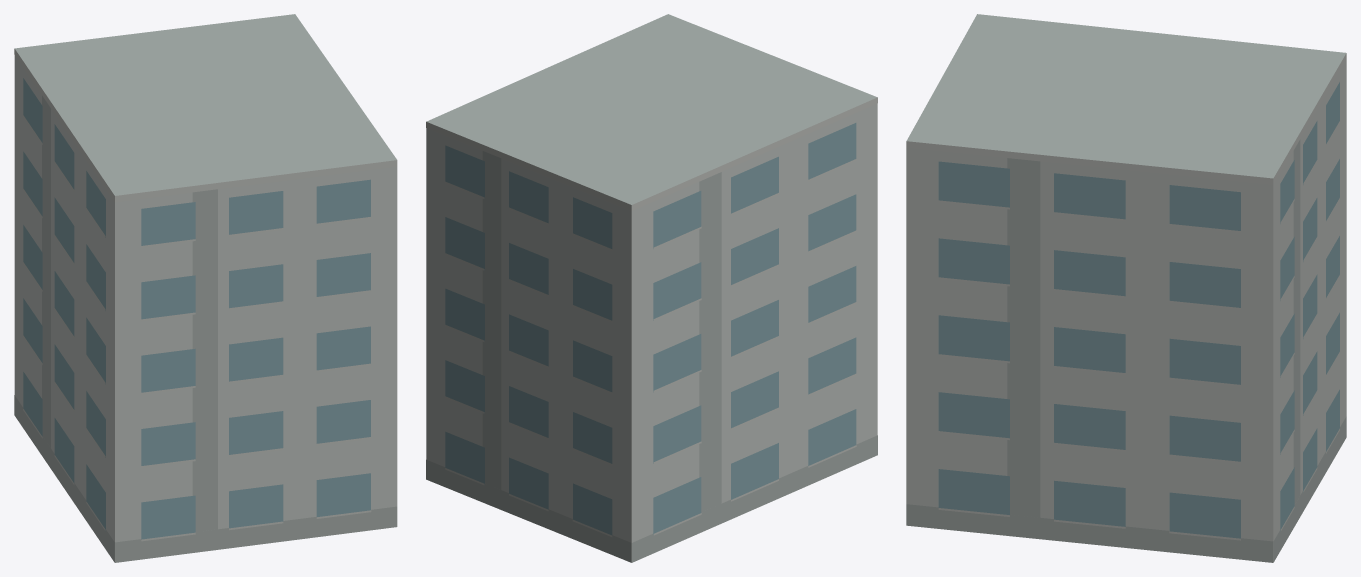
File: survey-upis-32536324.glb
The picture shows the model from 3 angles, left to right: view 1: azimuth 30°, elevation 25°; view 2: azimuth 150°, elevation 25°; view 3: azimuth 270°, elevation 25°; orthographic projection. The views are drawn at different scales.
Visible parts, largest first — view 1: survey-upis-32536324.tmp; view 2: survey-upis-32536324.tmp; view 3: survey-upis-32536324.tmp.
Part boxes in pixels (left/top/right/bottom): survey-upis-32536324.tmp: left=14, top=14, right=397, bottom=562; survey-upis-32536324.tmp: left=426, top=14, right=877, bottom=562; survey-upis-32536324.tmp: left=906, top=14, right=1346, bottom=562.
Size of the model in its own units: 12.95 by 14.1 by 14.64.
